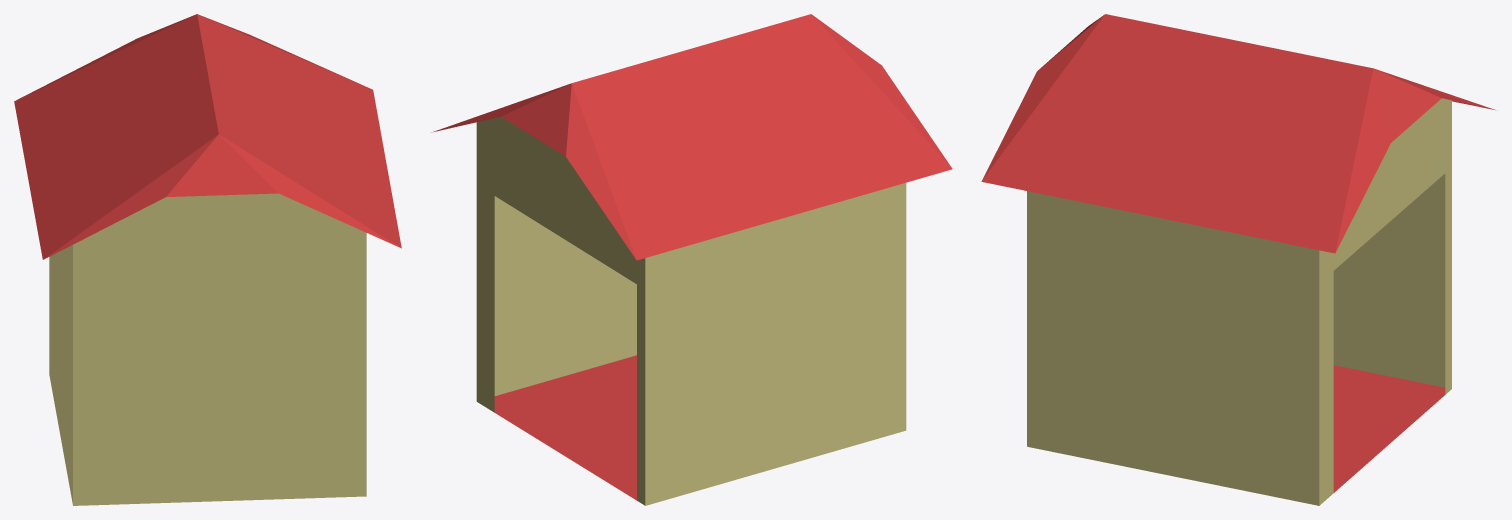
3 views of the same model, side by side, from view 1: azimuth 30°, elevation 25°; view 2: azimuth 150°, elevation 25°; view 3: azimuth 270°, elevation 25° (orthographic). The views are drawn at different scales.
Parts seen in each view (by area): view 1: group_5, group_3, group_4; view 2: group_5, group_3, group_4, group_6; view 3: group_5, group_3, group_4, group_6.
Part boxes in pixels (left/top/right/bottom): group_5: left=49, top=193, right=366, bottom=505; group_3: left=16, top=14, right=400, bottom=259; group_4: left=14, top=21, right=401, bottom=259; group_5: left=476, top=117, right=906, bottom=505; group_3: left=431, top=14, right=952, bottom=259; group_4: left=559, top=28, right=952, bottom=260; group_6: left=494, top=355, right=636, bottom=500; group_5: left=1027, top=98, right=1451, bottom=505; group_3: left=981, top=14, right=1495, bottom=253; group_4: left=981, top=19, right=1440, bottom=253; group_6: left=1333, top=365, right=1445, bottom=492.
Size of the model in its own units: 14.85 by 15.09 by 12.15.
